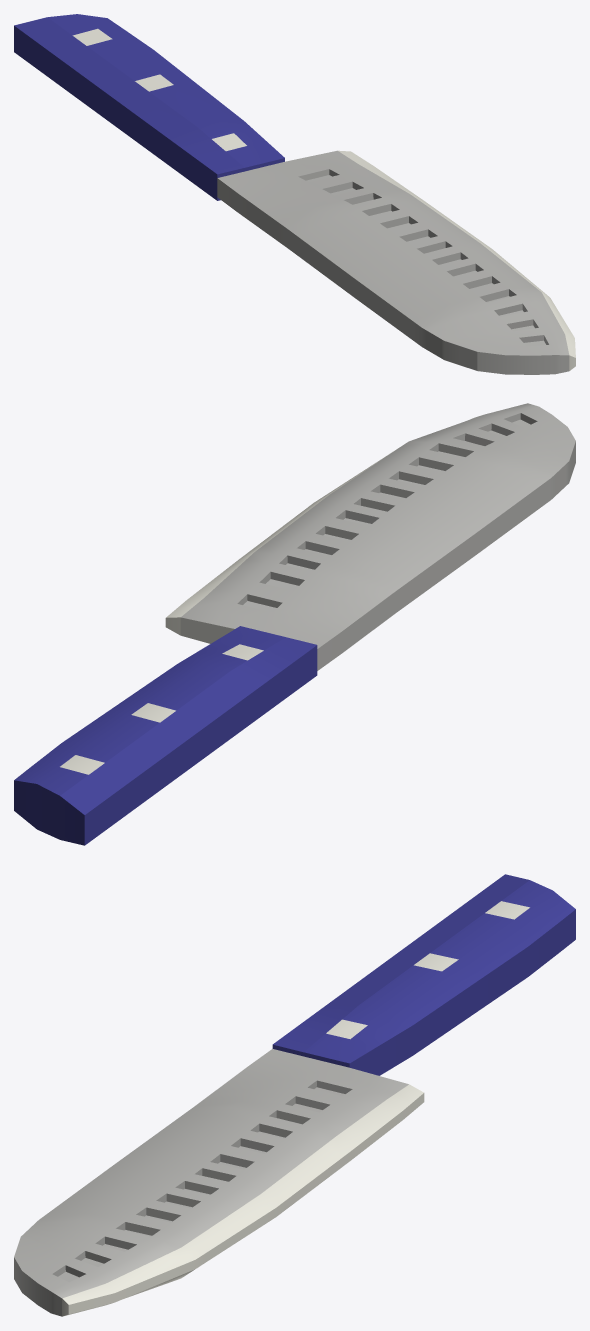
The model's file is Cuchillo_Vegetales.fbx.
3 renders of one model, top to bottom at view 1: azimuth 30°, elevation 25°; view 2: azimuth 150°, elevation 25°; view 3: azimuth 330°, elevation 25°, orthographic. The views are drawn at different scales.
Parts seen in each view (by area): view 1: Cuchillo_Vegetales; view 2: Cuchillo_Vegetales; view 3: Cuchillo_Vegetales.
Boxes of the visible parts, bbox=[...] form: Cuchillo_Vegetales: bbox=[14, 14, 575, 374]; Cuchillo_Vegetales: bbox=[14, 403, 575, 845]; Cuchillo_Vegetales: bbox=[14, 874, 575, 1316].
Size of the model in its own units: 0.7803 by 0.2128 by 4.57.
